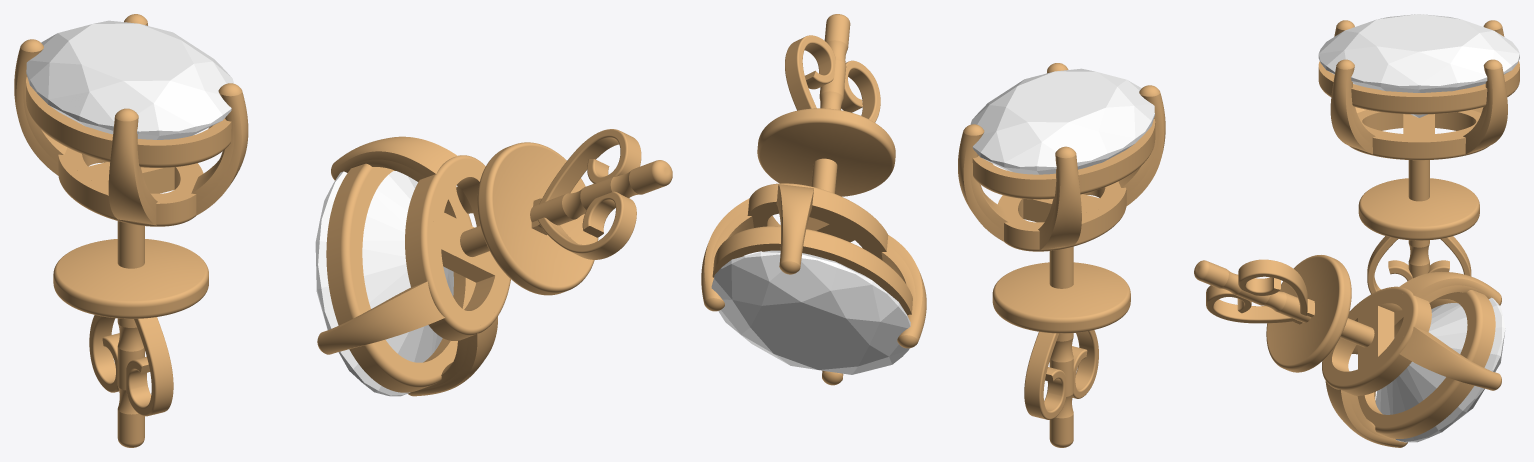
3 views of the same model, side by side, from view 1: azimuth 30°, elevation 25°; view 2: azimuth 150°, elevation 25°; view 3: azimuth 270°, elevation 25° (orthographic). The views are drawn at different scales.
Parts seen in each view (by area): view 1: DS-2-1CT3dm, Diamond_Oval_1, Diamond_Oval; view 2: DS-2-1CT3dm, Diamond_Oval, Diamond_Oval_1; view 3: DS-2-1CT3dm, Diamond_Oval_1, Diamond_Oval.
Part boxes in pixels (x1=…): DS-2-1CT3dm: x1=14, y1=14, x2=672, y2=447; Diamond_Oval_1: x1=26, y1=20, x2=233, y2=139; Diamond_Oval: x1=315, y1=171, x2=453, y2=396; DS-2-1CT3dm: x1=701, y1=14, x2=1165, y2=447; Diamond_Oval: x1=711, y1=250, x2=910, y2=374; Diamond_Oval_1: x1=970, y1=68, x2=1154, y2=174; DS-2-1CT3dm: x1=1194, y1=20, x2=1519, y2=447; Diamond_Oval_1: x1=1318, y1=14, x2=1519, y2=117; Diamond_Oval: x1=1375, y1=297, x2=1505, y2=442.
Bounding box in the file's own units: 2.72 × 2.13 × 2.02.
